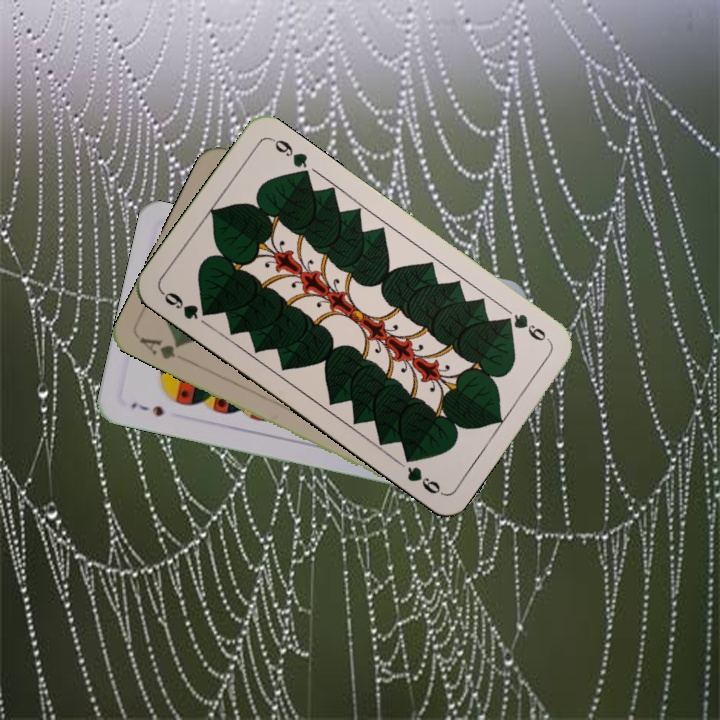G9: (157, 287, 214, 322), (499, 309, 553, 344)
GA: (135, 333, 185, 362)
S7: (127, 398, 166, 420)
